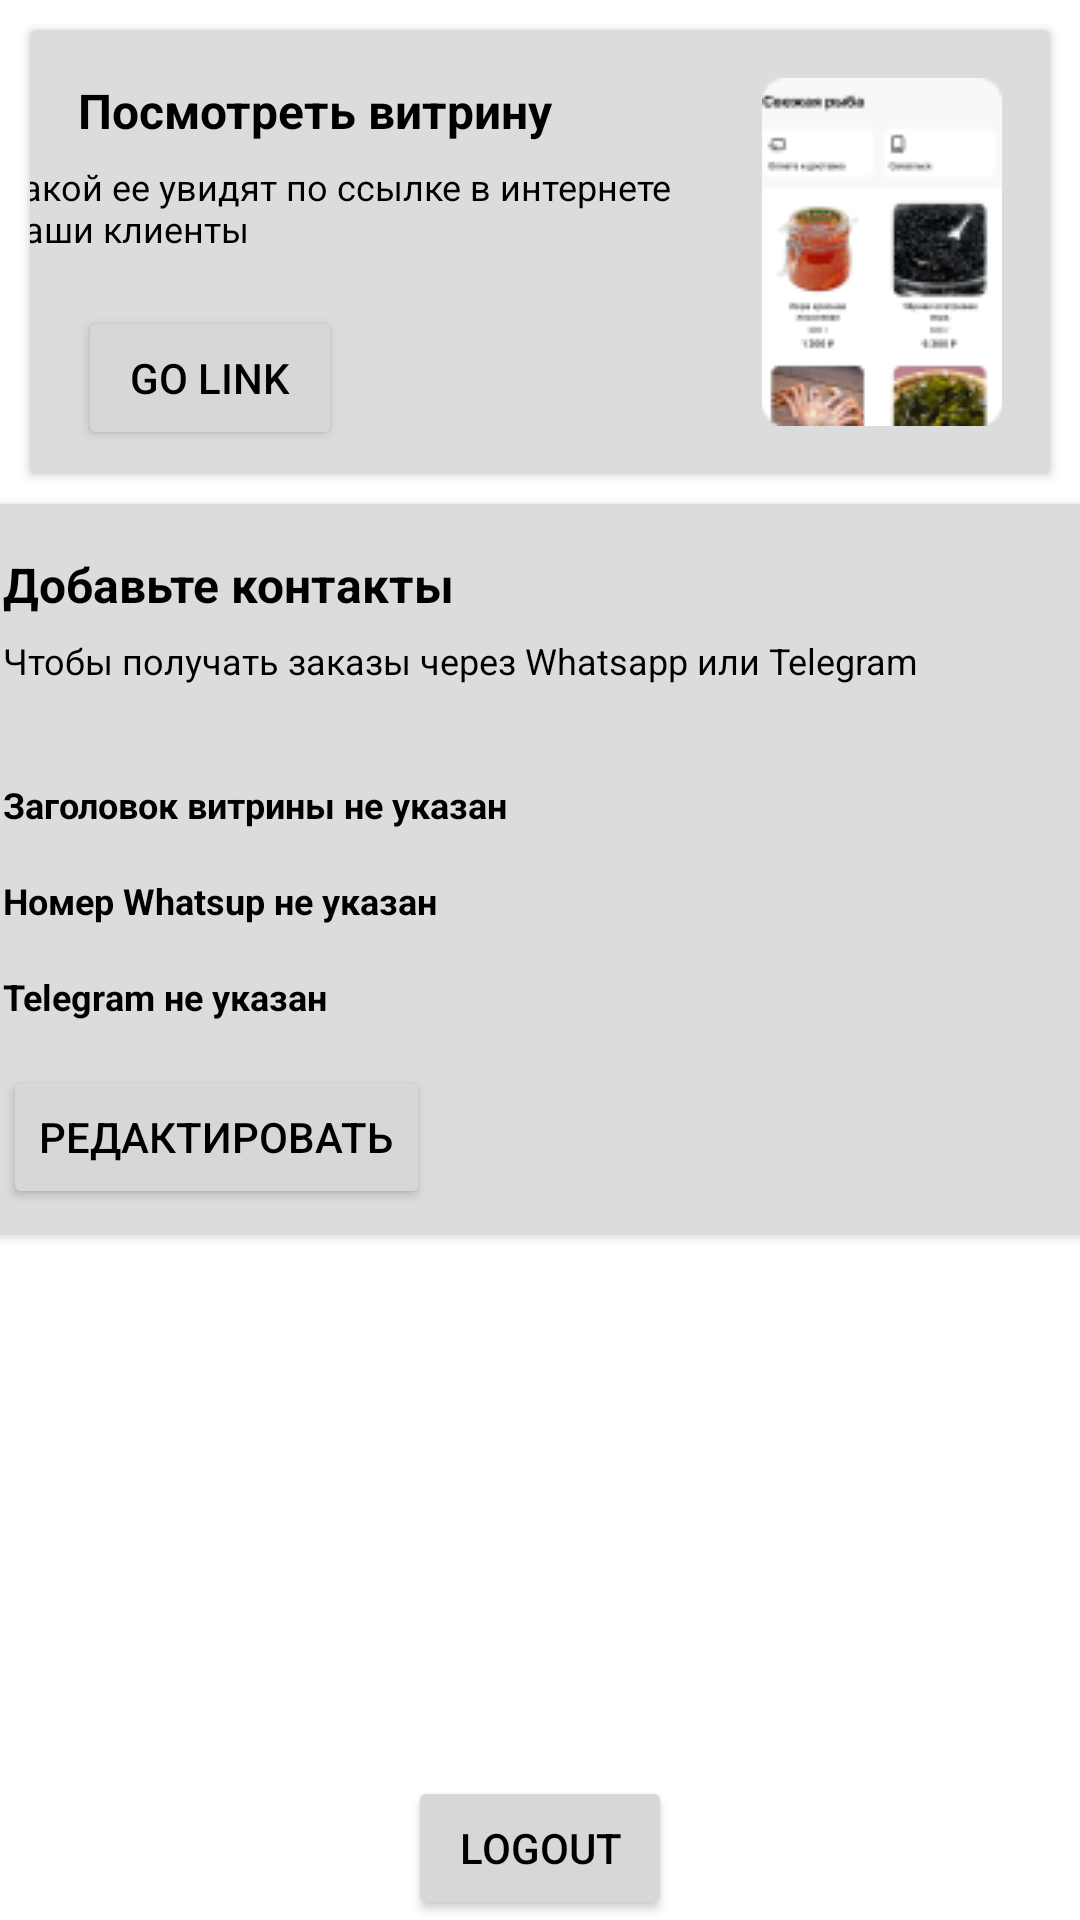

Icon bounding boxes for this 1080 x 1920 phone screenshot, format (x1,y1,x2,y2):
showcase example: (762,78,1002,426)
